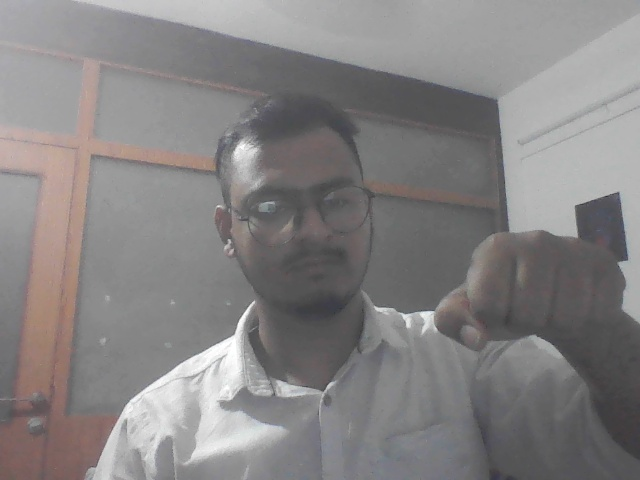YES: (423, 215, 640, 364)
